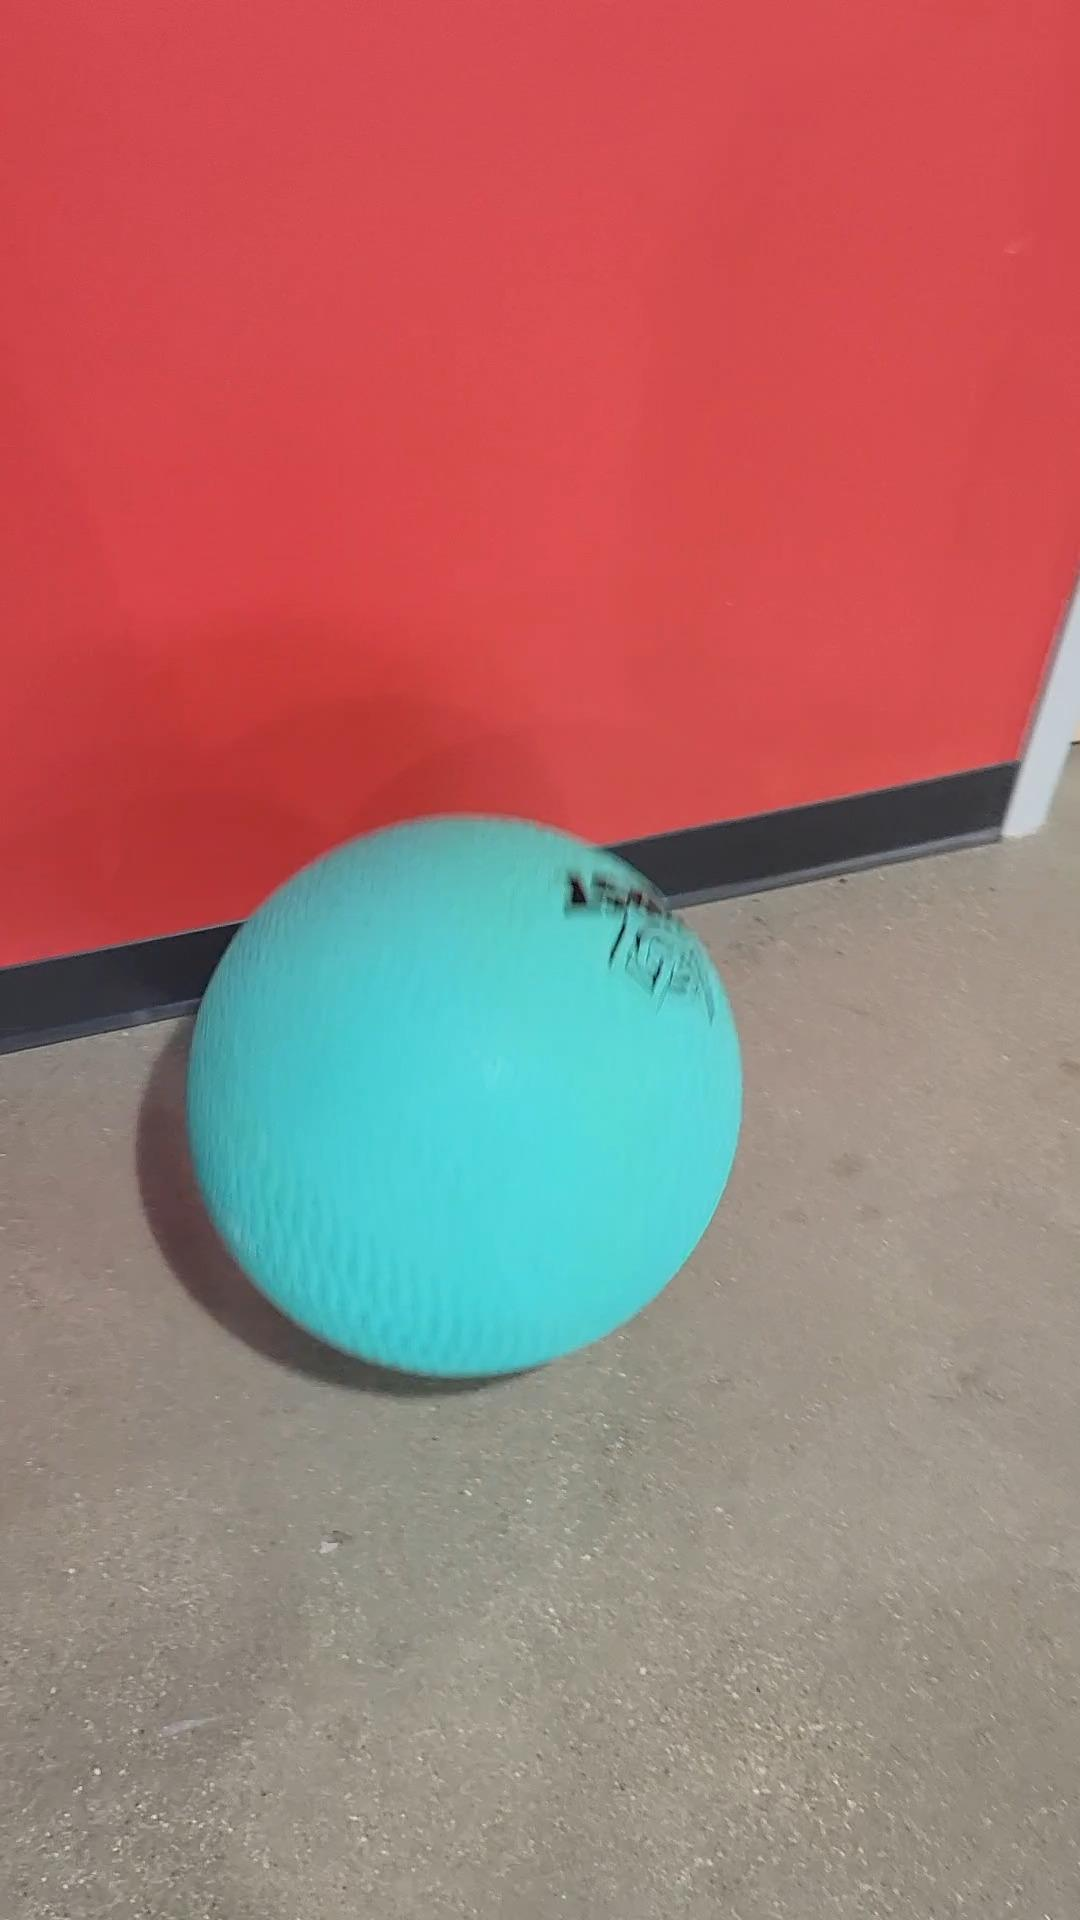algae: (191, 820, 731, 1369)
